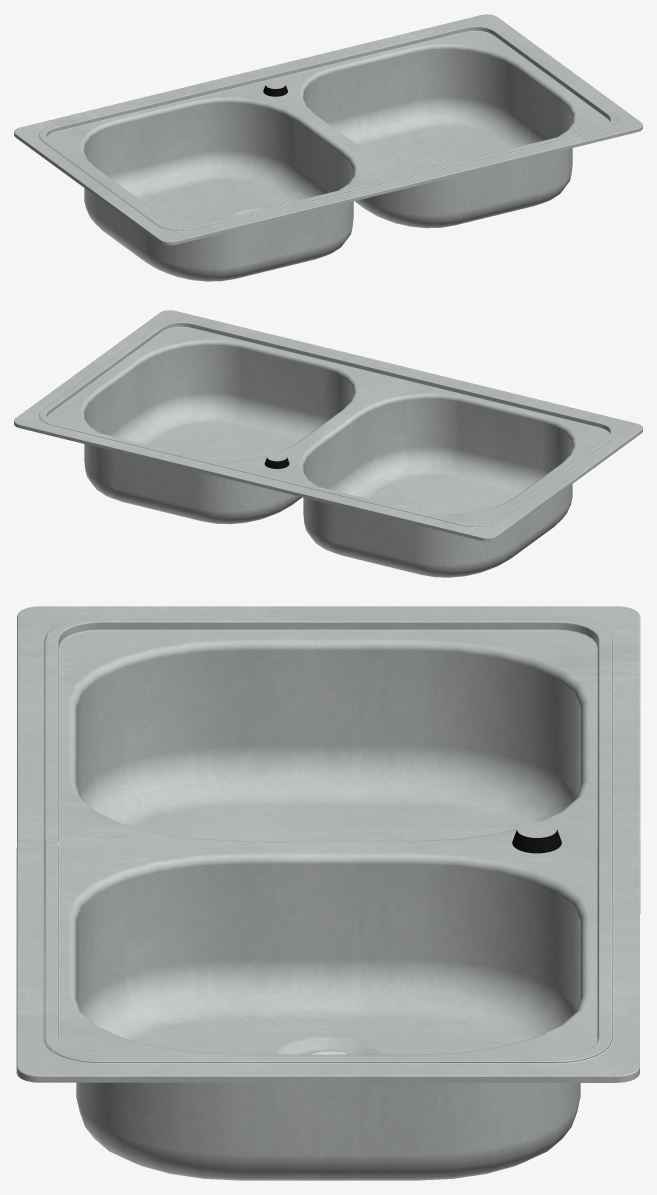
The model's file is hospital_scrub_sink_1.glb.
3 views of the same model, one above another, from view 1: azimuth 30°, elevation 25°; view 2: azimuth 150°, elevation 25°; view 3: azimuth 270°, elevation 25° (orthographic). The views are drawn at different scales.
Visible parts, largest first — view 1: Cylinder; view 2: Cylinder; view 3: Cylinder.
Part boxes in pixels (box(x1,y1,x2,y2)): Cylinder: box(14, 14, 642, 281); Cylinder: box(14, 310, 642, 577); Cylinder: box(16, 606, 640, 1180).
Size of the model in its own units: 0.8215 by 0.144 by 0.4605.
3 materials, 1 textured.
